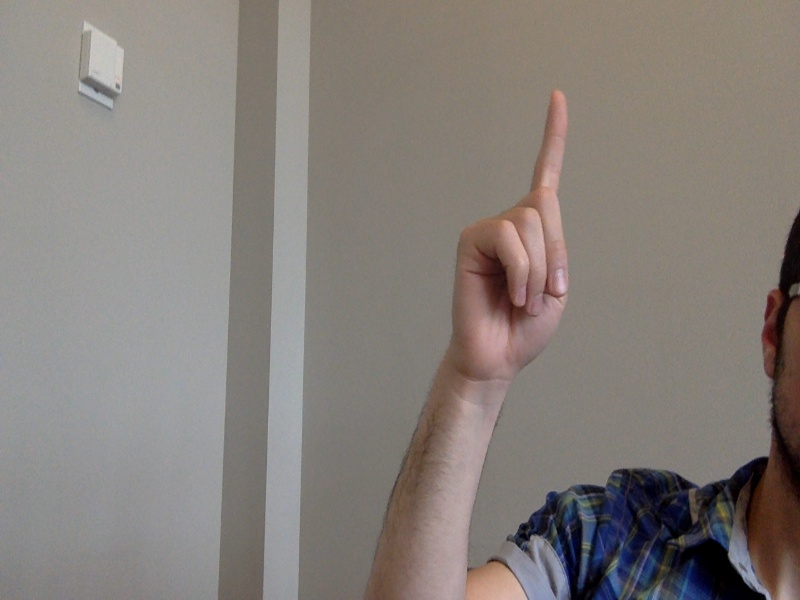1-hand: (449, 86, 572, 394)
